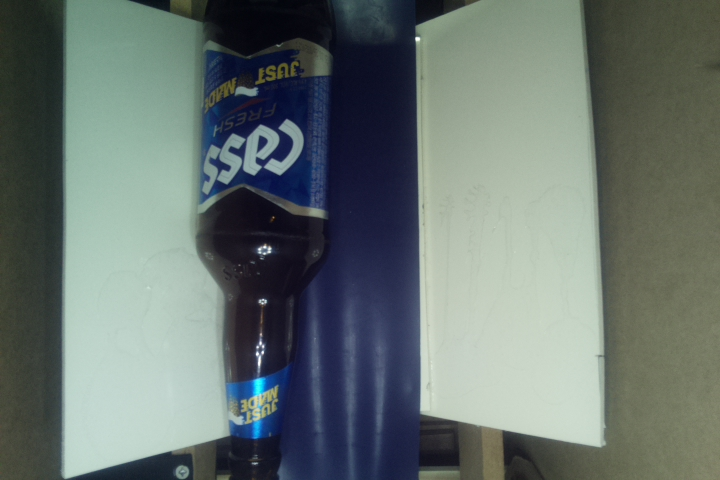makju: (198, 1, 333, 478)
